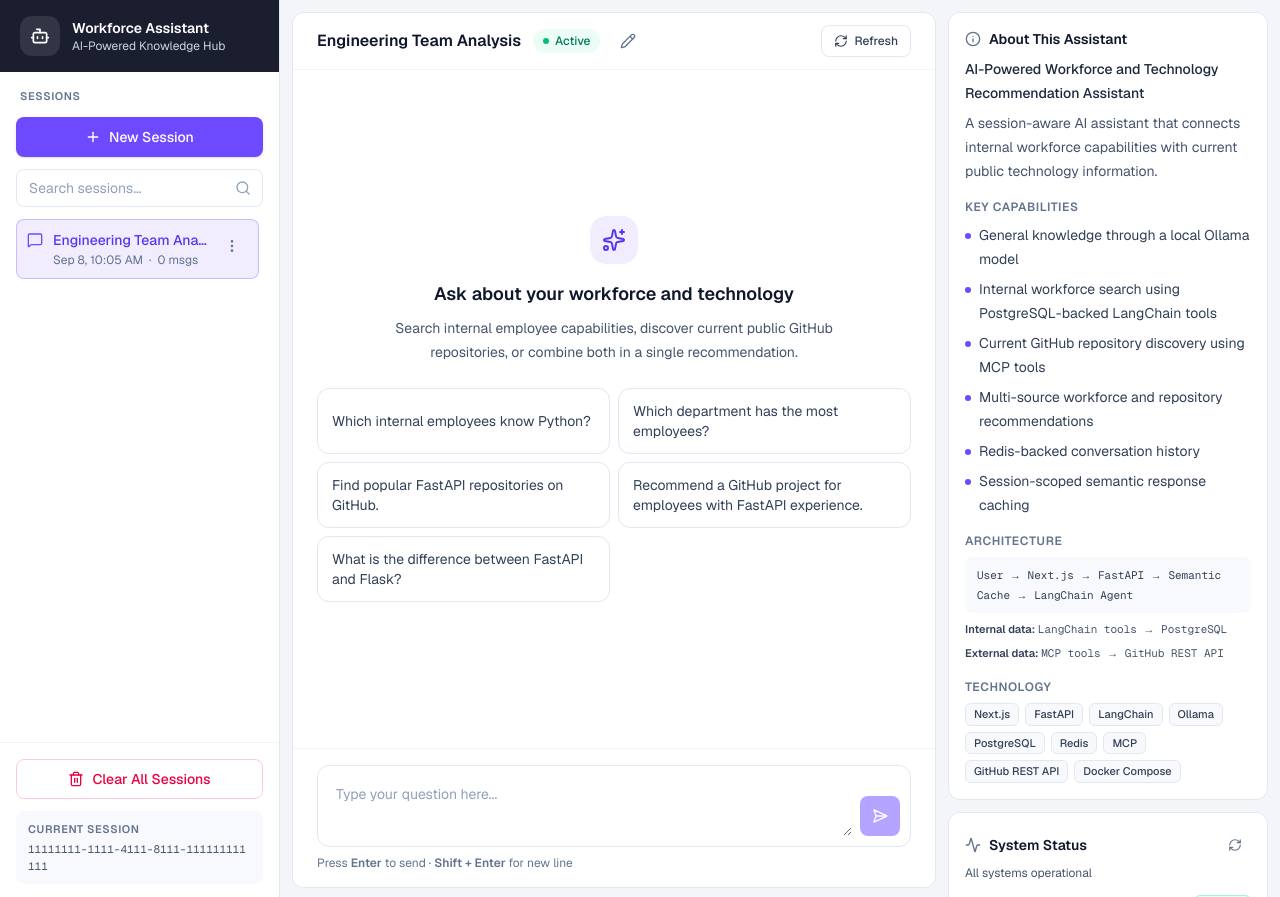
Test case: WorkspaceScreen › keeps the question available for retry when the ask request fails
Type "Find popular FastAPI repositories on GitHub." into the text box named "ask the assistant". click: [590, 806]
box: [328,776,852,836]
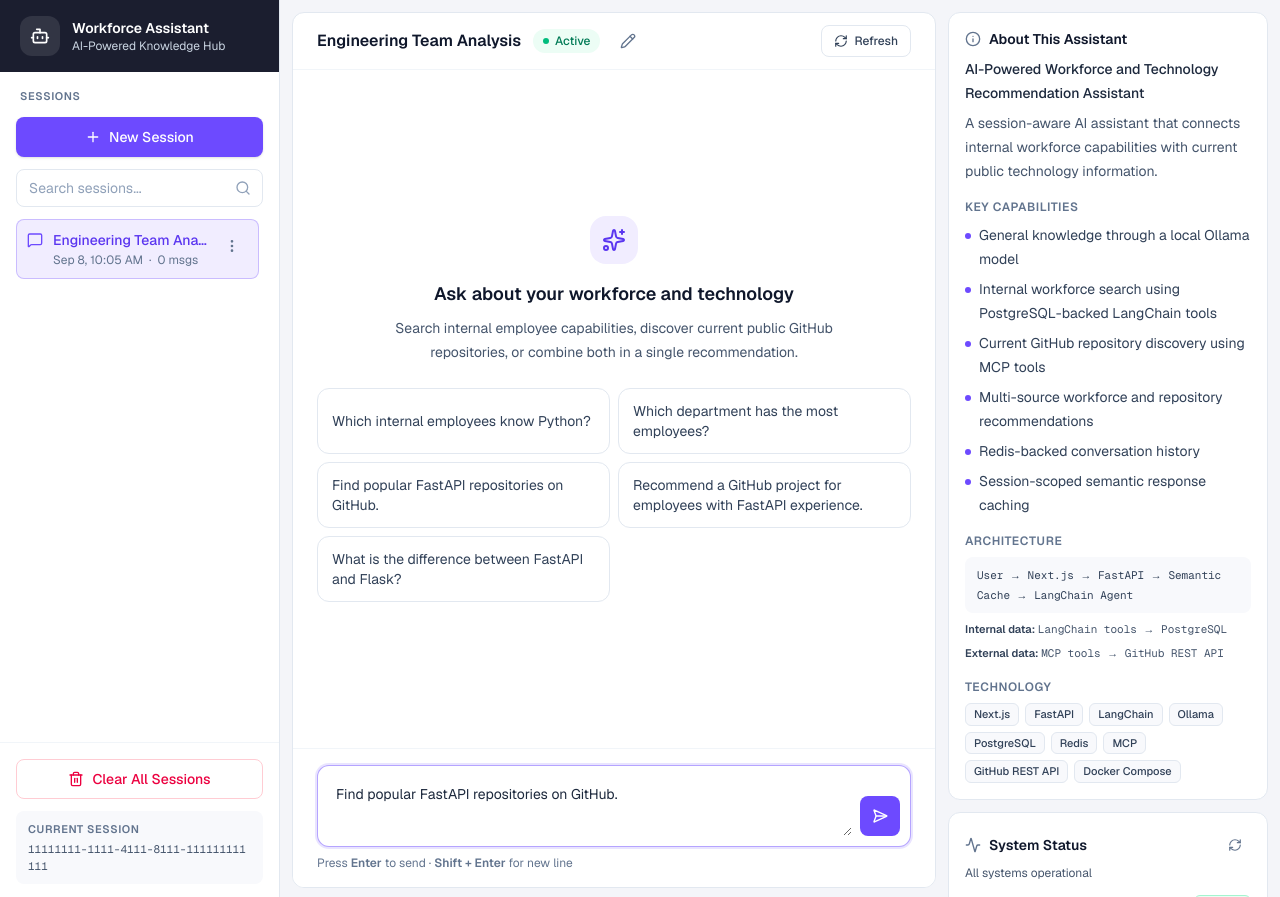
Press Enter
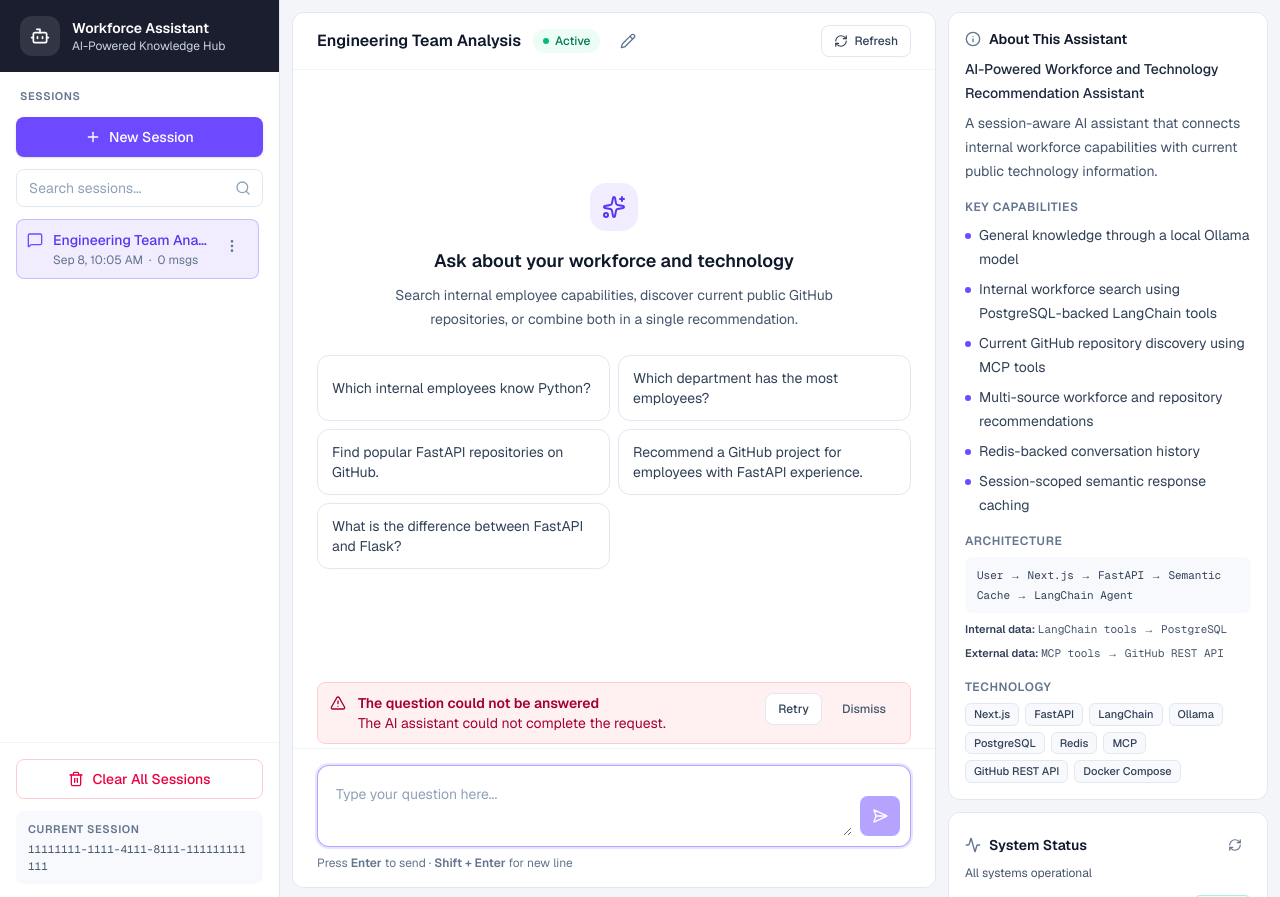
Expected: the text "The AI assistant could not complete the request." is shown, [358,714,666,732]
Expected: the button "Retry" is shown, [765,693,822,725]
